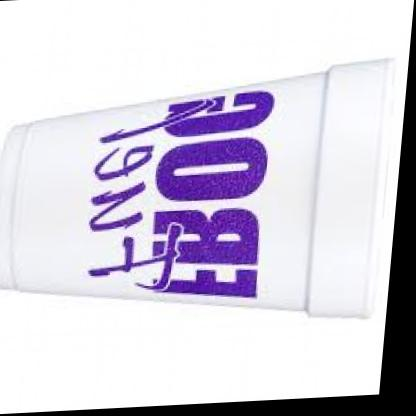Plastic: (0, 51, 402, 350)
